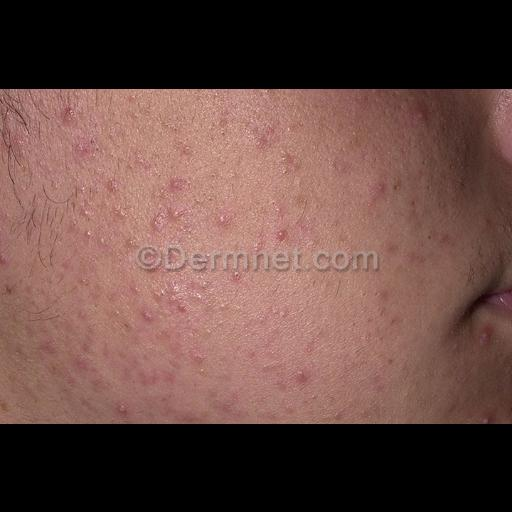Skin_Lesion: (146, 180, 190, 244), (404, 89, 434, 127), (62, 134, 94, 164), (366, 174, 400, 200), (252, 118, 278, 148), (276, 150, 302, 180), (129, 144, 155, 172), (156, 276, 184, 302), (69, 344, 91, 376), (115, 394, 135, 424), (194, 270, 214, 300), (59, 100, 81, 126), (430, 228, 456, 250), (170, 172, 192, 196), (174, 137, 196, 161), (478, 324, 496, 350), (276, 220, 294, 244), (2, 281, 20, 303), (141, 302, 157, 326), (106, 177, 124, 195), (292, 366, 310, 384), (228, 268, 244, 288), (476, 408, 496, 424), (248, 88, 274, 100), (0, 394, 12, 418), (210, 208, 232, 220), (74, 274, 90, 290), (0, 248, 10, 270)
